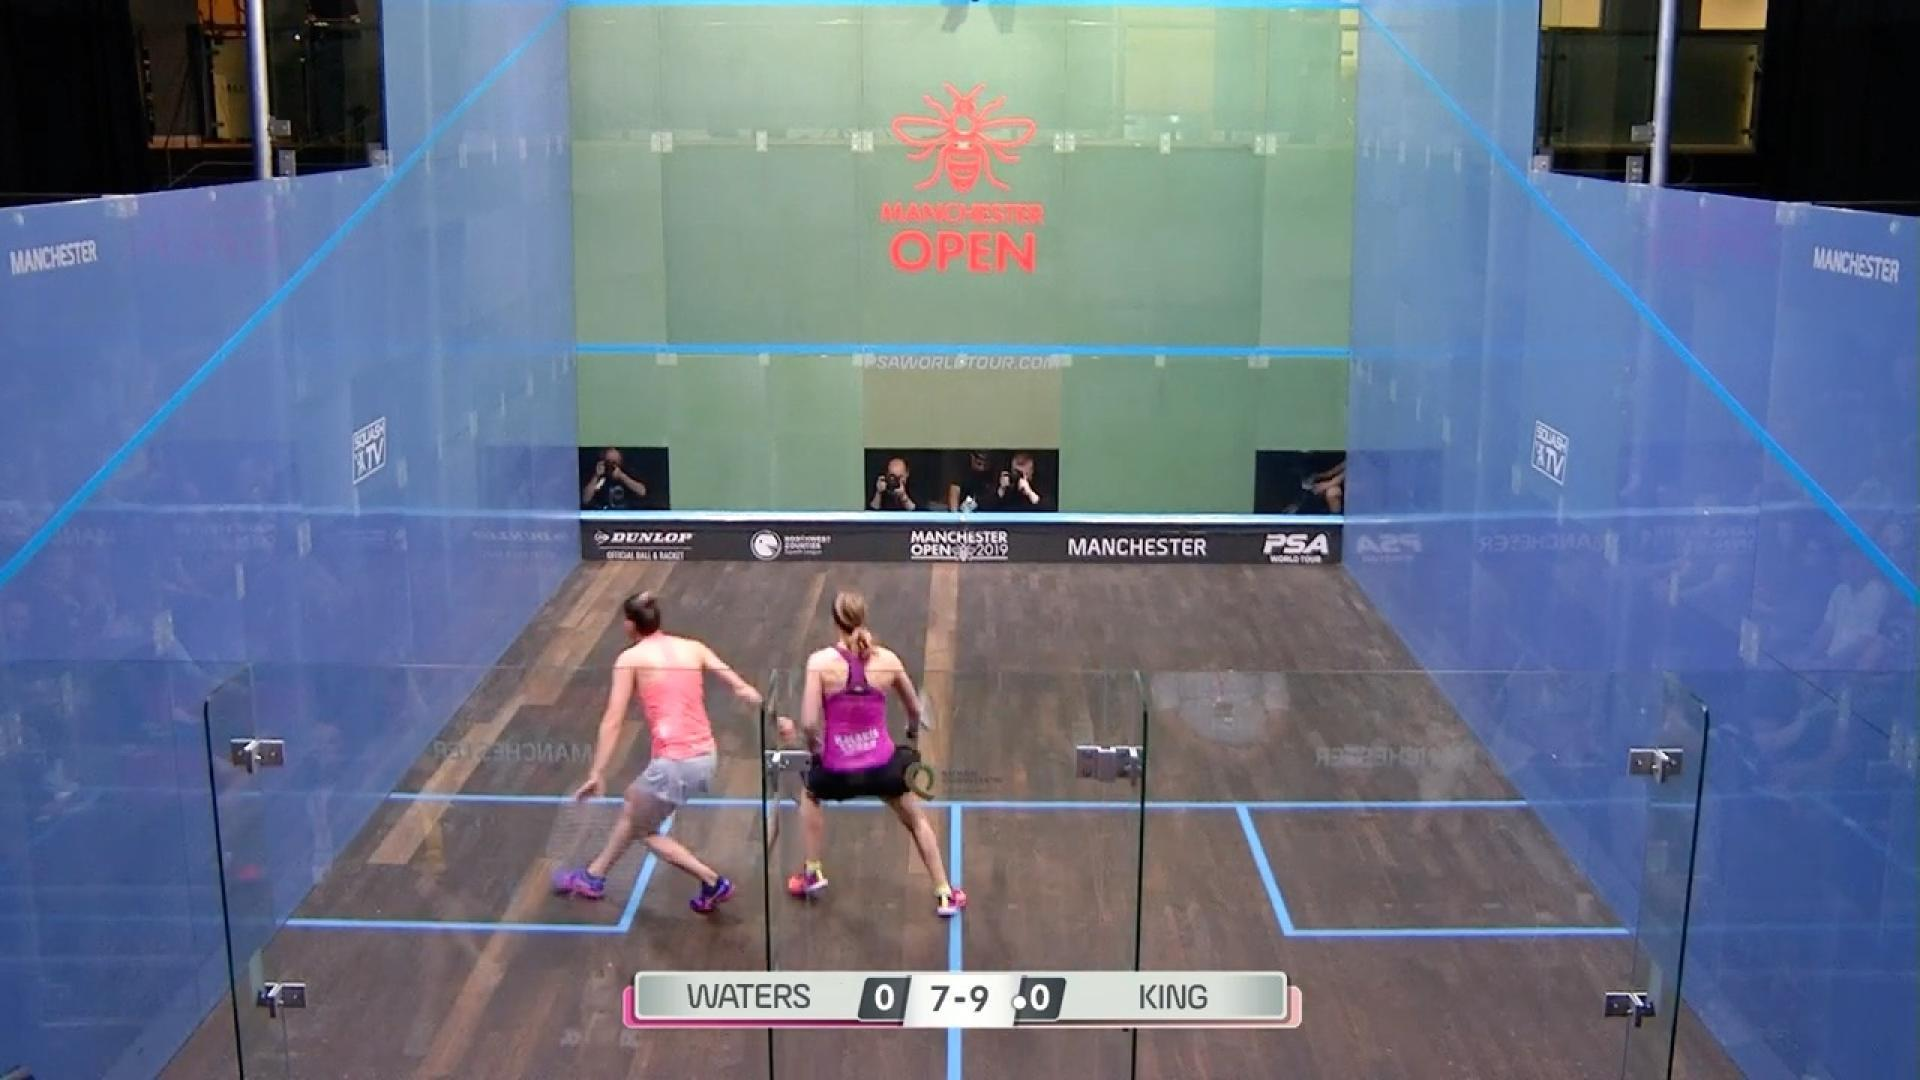Squash-Ball: (588, 465, 615, 500)
